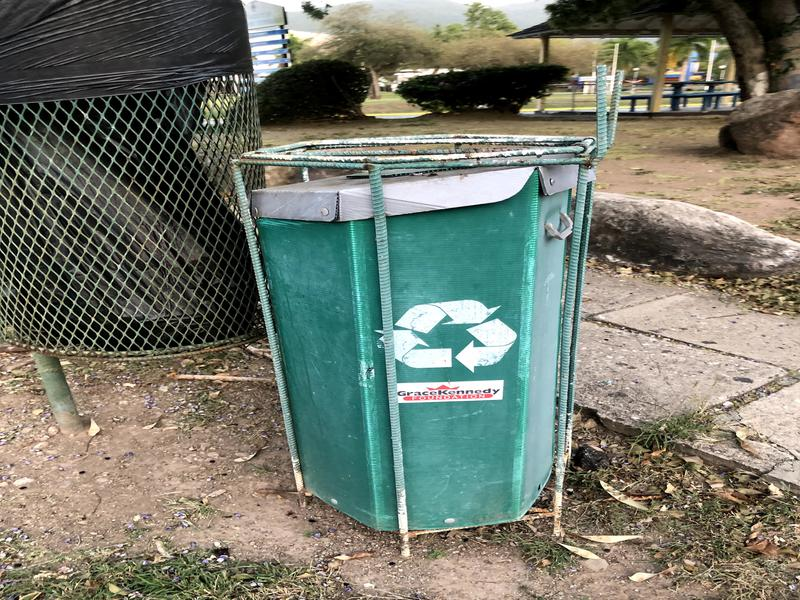18.0053245_-76.7486424_recyclebin: (223, 152, 610, 557)
